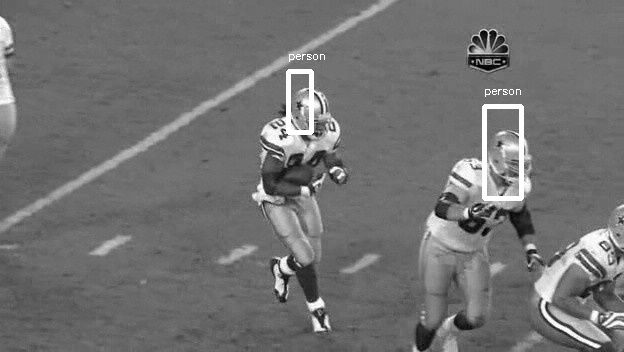person: (294, 88, 331, 135), (293, 88, 330, 135), (295, 88, 332, 135), (294, 87, 331, 134), (294, 89, 331, 136)
target_negative: (458, 68, 590, 340), (158, 223, 594, 276), (537, 141, 606, 325), (158, 86, 536, 116), (262, 259, 350, 347), (384, 309, 427, 321)
